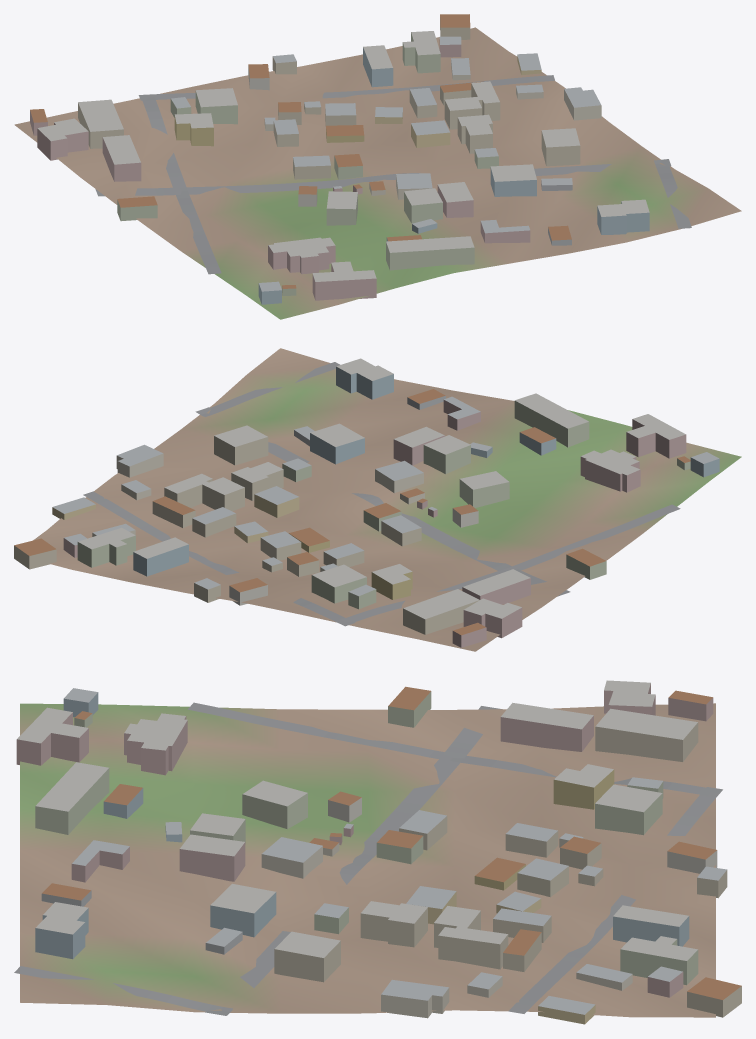
3 views of the same model, one above another, from view 1: azimuth 30°, elevation 25°; view 2: azimuth 150°, elevation 25°; view 3: azimuth 270°, elevation 25° (orthographic). The views are drawn at different scales.
Visible parts, largest first — view 1: Lo; view 2: Lo; view 3: Lo.
Part boxes in pixels (x1,y1,x2,y2): Lo: [14, 14, 741, 319]; Lo: [14, 348, 741, 651]; Lo: [14, 680, 741, 1024].
Size of the model in its own units: 269 by 19.21 by 268.
